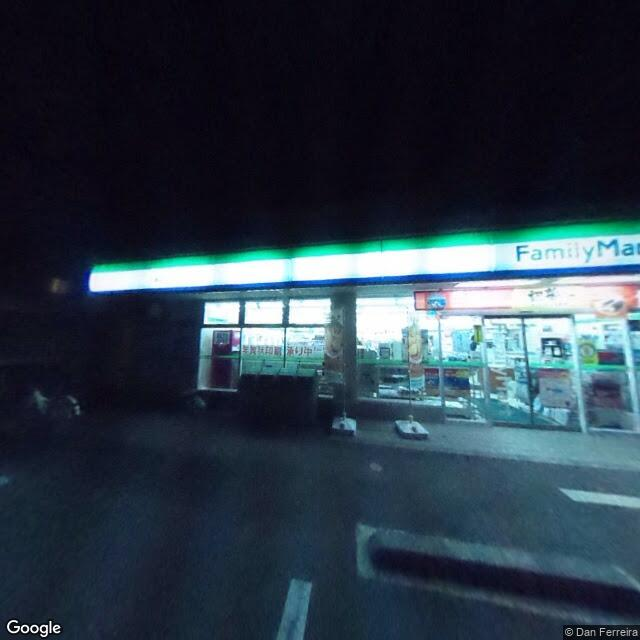family_mart: (92, 214, 637, 292), (507, 228, 640, 269)
